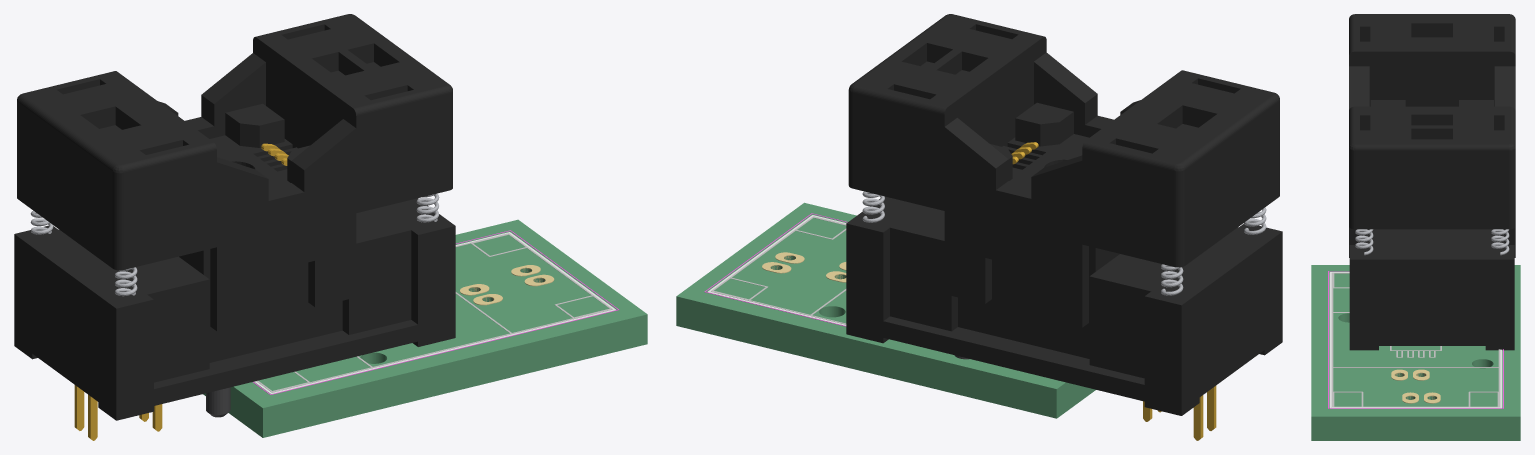
Rendered from head.glb.
3 views of the same model, side by side, from view 1: azimuth 30°, elevation 25°; view 2: azimuth 150°, elevation 25°; view 3: azimuth 270°, elevation 25° (orthographic). The views are drawn at different scales.
Parts seen in each view (by area): view 1: model_1_13_cover, model_1_14_body, PCB, model_1, F.Fab, F.SilkS, F.Cu, F.CrtYd, model_1_12_pegs; view 2: model_1_13_cover, model_1_14_body, PCB, model_1, F.Fab, F.Cu, F.SilkS; view 3: model_1_13_cover, PCB, model_1_14_body, F.Fab, F.SilkS, model_1, F.Cu, F.CrtYd.
Boxes of the visible parts, box(x1,y1,x2,y2) form: model_1_13_cover: box(17, 14, 452, 331); model_1_14_body: box(14, 103, 455, 420); PCB: box(203, 219, 647, 437); model_1: box(30, 143, 439, 440); F.Fab: box(256, 233, 612, 392); F.SilkS: box(254, 232, 615, 394); F.Cu: box(460, 265, 554, 305); F.CrtYd: box(253, 230, 618, 394); model_1_12_pegs: box(206, 387, 230, 417); model_1_13_cover: box(848, 14, 1279, 327); model_1_14_body: box(846, 102, 1282, 415); PCB: box(676, 202, 1095, 418); model_1: box(862, 142, 1266, 440); F.Fab: box(711, 216, 846, 324); F.Cu: box(762, 252, 846, 282); F.SilkS: box(708, 215, 846, 325); model_1_13_cover: box(1349, 14, 1515, 257); PCB: box(1311, 265, 1520, 440); model_1_14_body: box(1349, 100, 1514, 350); F.Fab: box(1331, 272, 1500, 407); F.SilkS: box(1329, 272, 1502, 408); model_1: box(1355, 229, 1509, 255); F.Cu: box(1391, 369, 1440, 403); F.CrtYd: box(1328, 271, 1503, 408).
Size of the model in its own units: 28.42 by 16.7 by 12.55.
